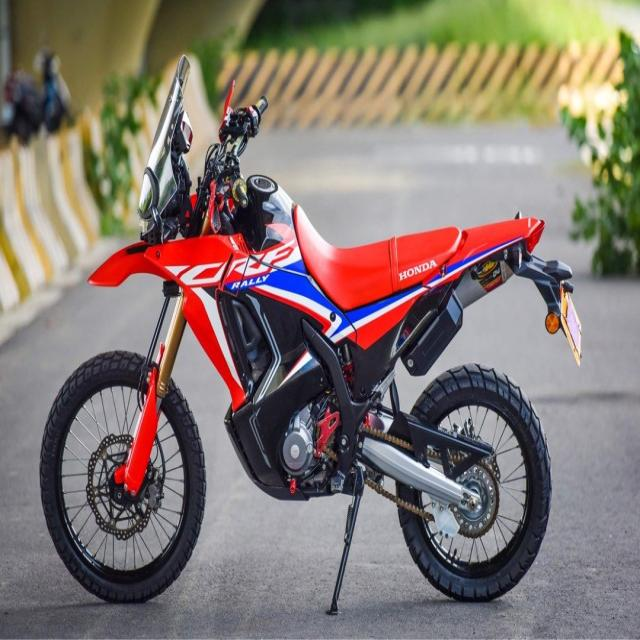Bike: (37, 55, 584, 616)
